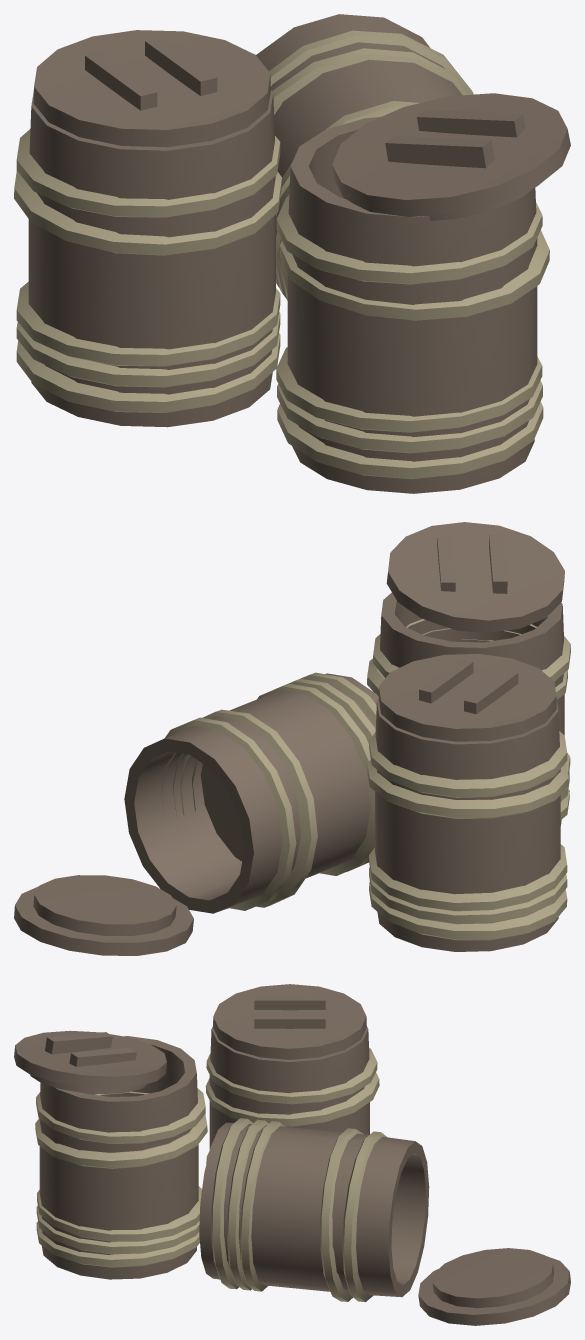
Rendered from props_barrel_group_001.fbx.
3 renders of one model, top to bottom at view 1: azimuth 30°, elevation 25°; view 2: azimuth 150°, elevation 25°; view 3: azimuth 270°, elevation 25°, orthographic. The views are drawn at different scales.
Visible parts, largest first — view 1: polySurface41, polySurface38, polySurface37, polySurface42, polySurface39, pTorus8, pTorus9, pTorus16, pTorus6, pTorus7, pTorus19, pTorus18 (+10 smaller); view 2: polySurface39, polySurface38, polySurface42, polySurface40, polySurface37, polySurface41, pTorus8, pTorus9, pTorus14, pTorus7, pTorus11, pTorus6 (+10 smaller); view 3: polySurface39, polySurface41, polySurface40, polySurface38, polySurface37, polySurface42, pTorus19, pTorus11, pTorus16, pTorus14, pTorus9, pTorus8 (+10 smaller).
Part boxes in pixels (box(x1,y1,x2,y2)): polySurface41: box(287, 117, 537, 493); polySurface38: box(28, 90, 275, 427); polySurface37: box(33, 30, 270, 147); polySurface42: box(332, 93, 570, 220); polySurface39: box(256, 14, 462, 177); pTorus8: box(14, 171, 281, 255); pTorus9: box(16, 129, 280, 217); pTorus16: box(276, 196, 542, 284); pTorus6: box(16, 333, 280, 412); pTorus7: box(16, 282, 280, 366); pTorus19: box(279, 230, 549, 320); pTorus18: box(277, 401, 543, 479); polySurface39: box(124, 673, 378, 913); polySurface38: box(375, 699, 560, 951); polySurface42: box(386, 522, 564, 632); polySurface40: box(14, 875, 193, 955); polySurface37: box(378, 654, 556, 741); polySurface41: box(380, 592, 564, 825); pTorus8: box(367, 760, 568, 818); pTorus9: box(369, 731, 567, 797); pTorus14: box(180, 709, 317, 907); pTorus7: box(369, 844, 567, 911); pTorus11: box(161, 717, 296, 910); pTorus6: box(369, 882, 567, 940); polySurface39: box(199, 1122, 429, 1297); polySurface41: box(39, 1036, 198, 1279); polySurface40: box(418, 1248, 570, 1325); polySurface38: box(209, 1026, 369, 1149); polySurface37: box(213, 984, 366, 1059); polySurface42: box(14, 1030, 166, 1093); pTorus19: box(35, 1091, 207, 1168); pTorus11: box(342, 1131, 386, 1302); pTorus16: box(36, 1088, 205, 1143); pTorus14: box(320, 1128, 363, 1301); pTorus9: box(206, 1047, 377, 1104); pTorus8: box(205, 1072, 379, 1126).
Size of the model in its own units: 568 by 342 by 780.
